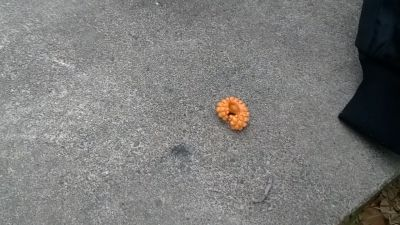eggs: (216, 97, 251, 132)
